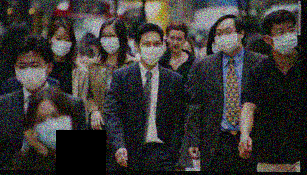with_mask: (31, 107, 73, 151), (14, 58, 49, 90), (272, 22, 299, 54), (212, 24, 242, 52), (137, 36, 163, 63), (50, 33, 73, 57), (99, 28, 120, 54)
without_mask: (167, 33, 185, 51)
